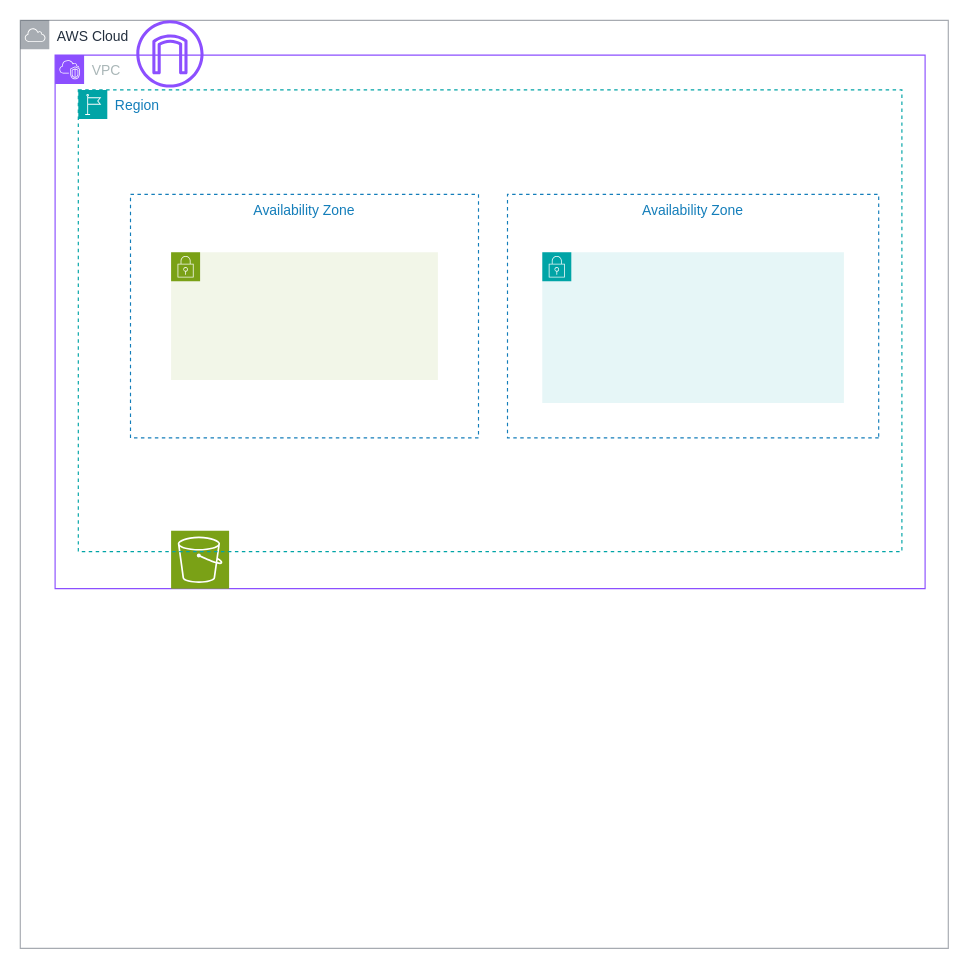
Image size: 969x969. Some labels were removed from this diagram. The shapes that lost their labels are listed below. From the top down, each one's centre as x and y in pixels, then its label:
At (x=304, y=315): "Public subnet".
At (x=692, y=327): "Private subnet".
